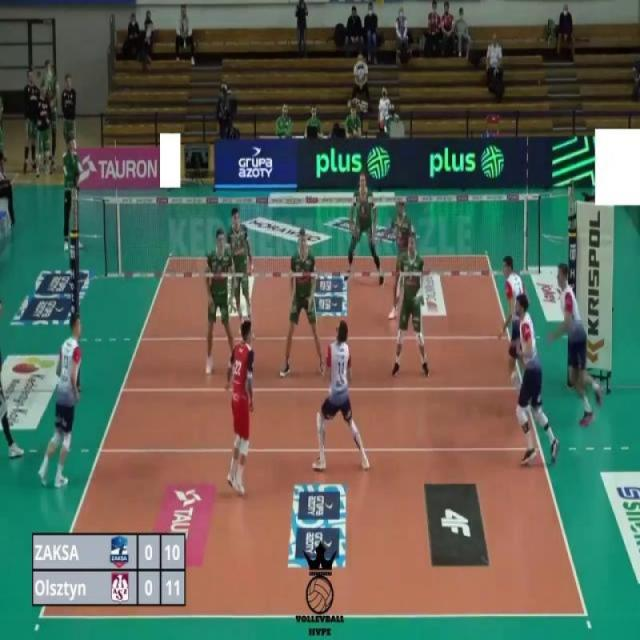volleyball: (375, 0, 384, 9)
